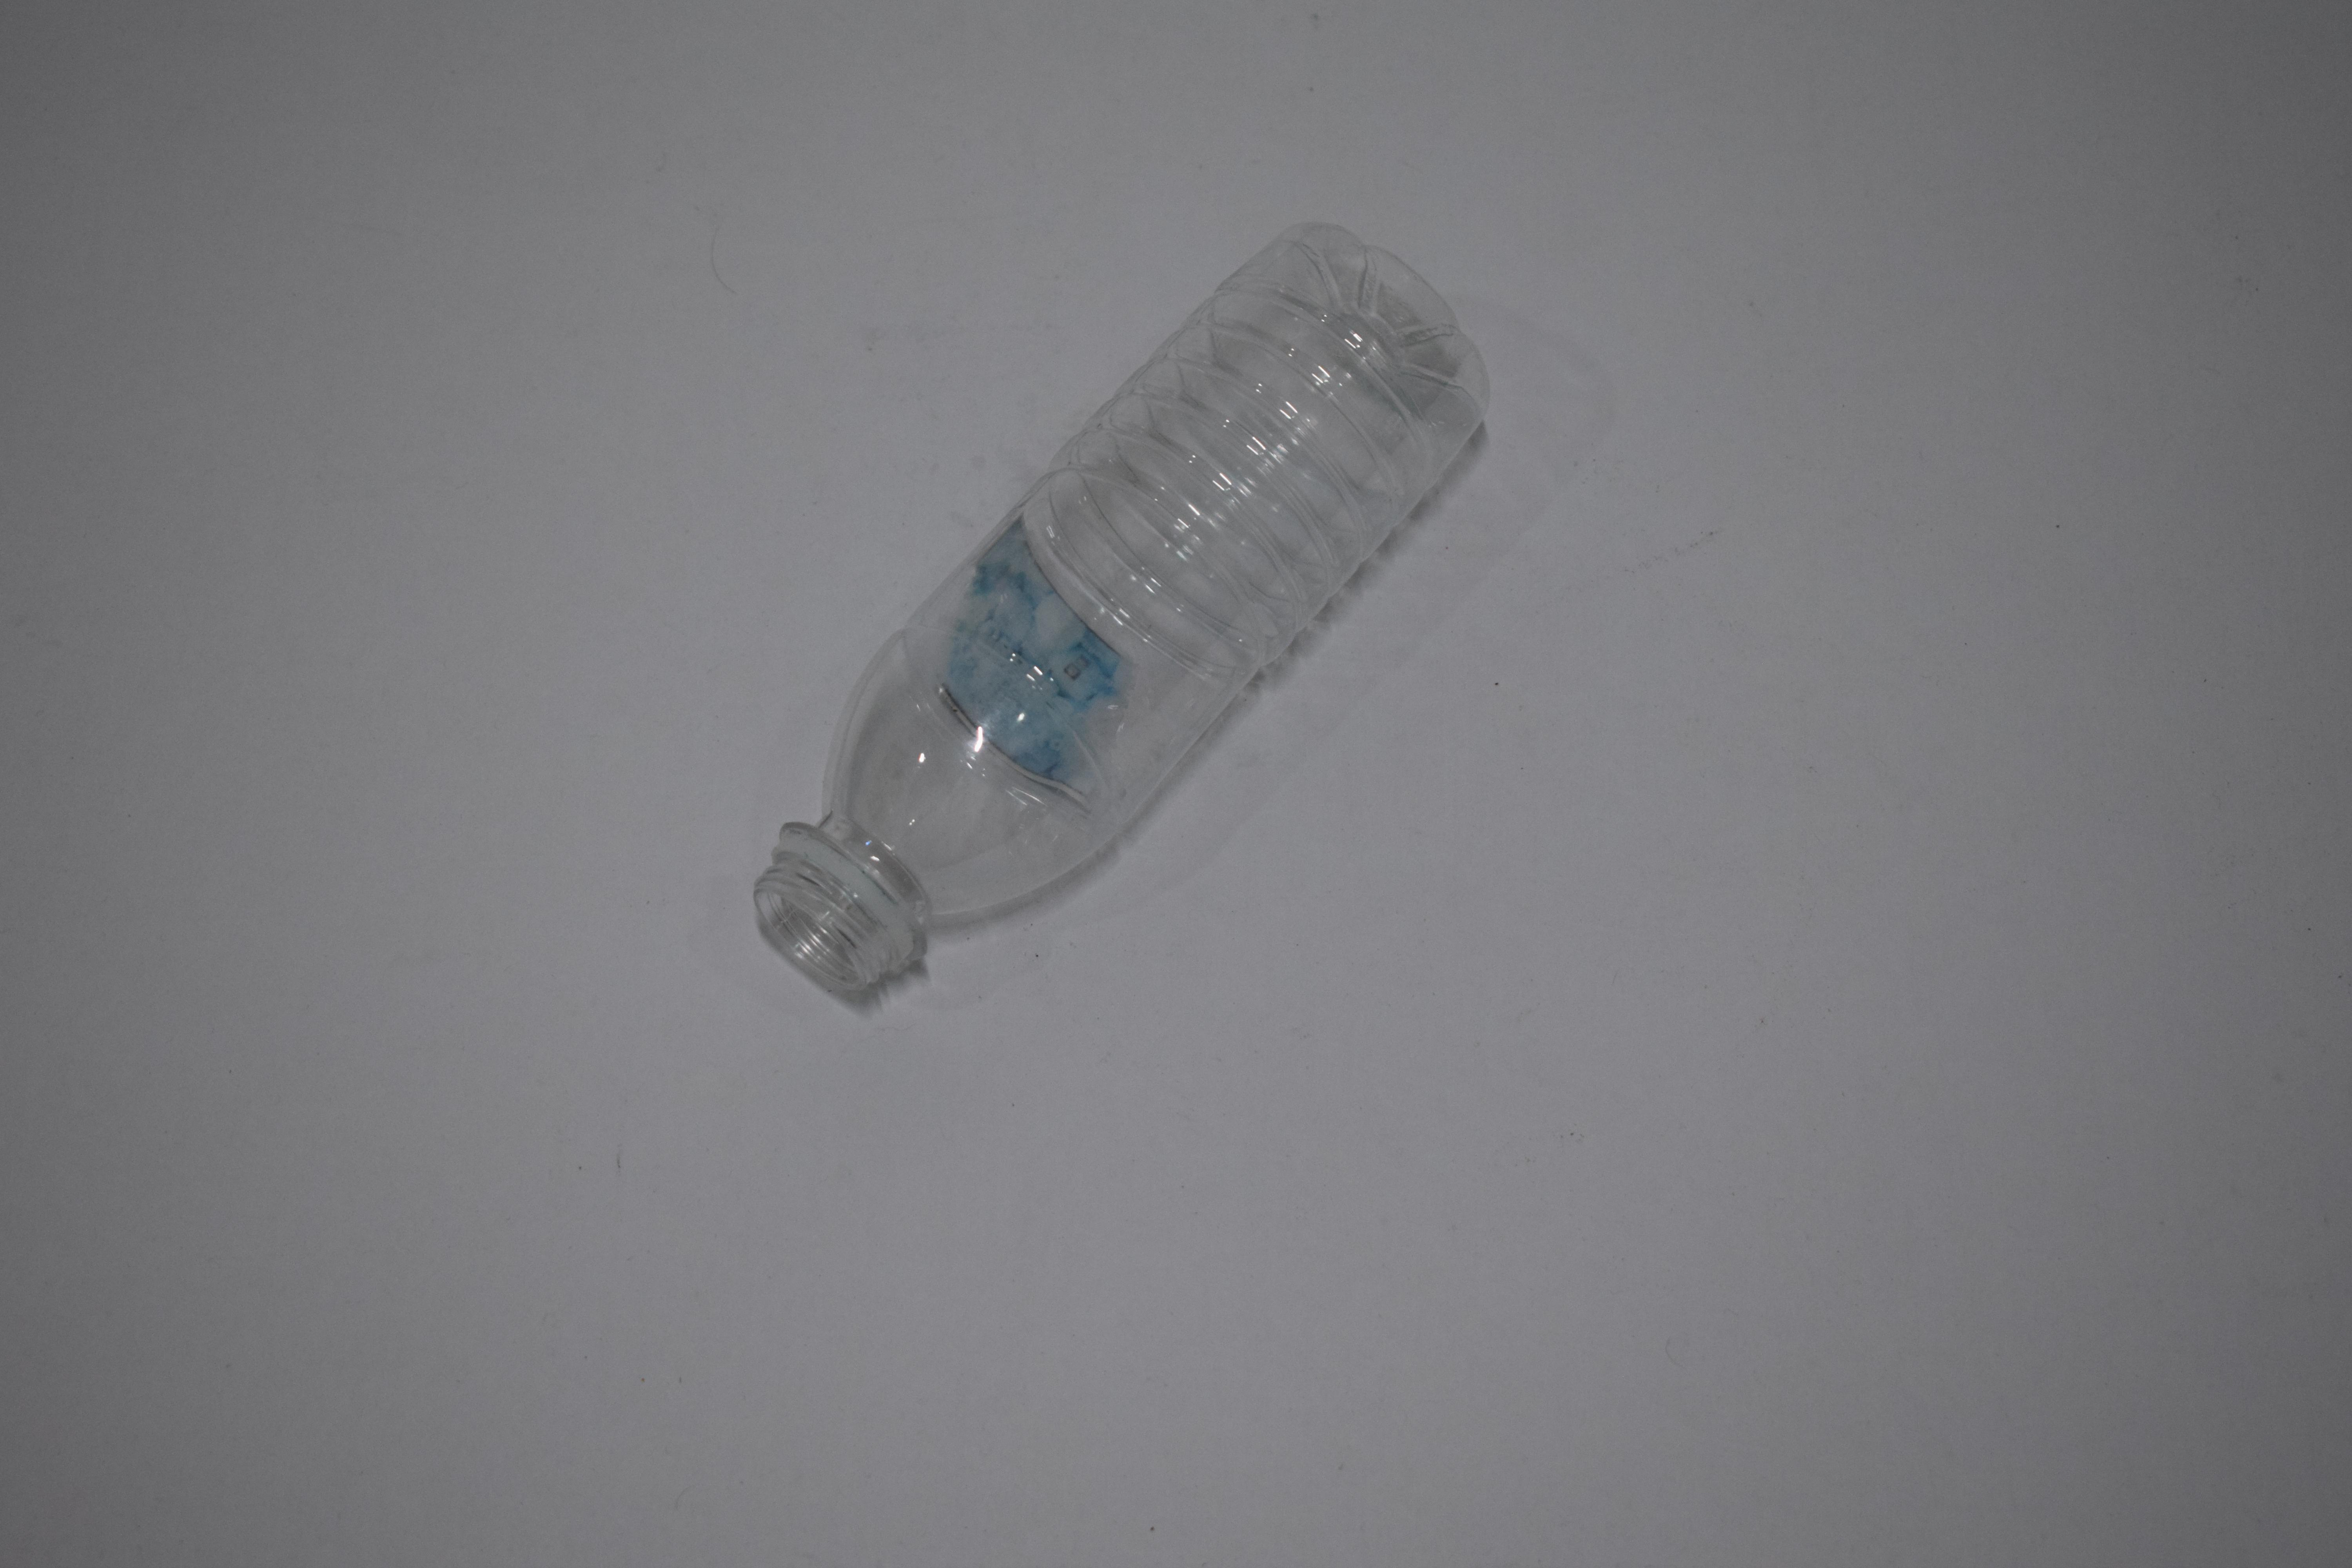bottle: (740, 604, 1502, 619)
